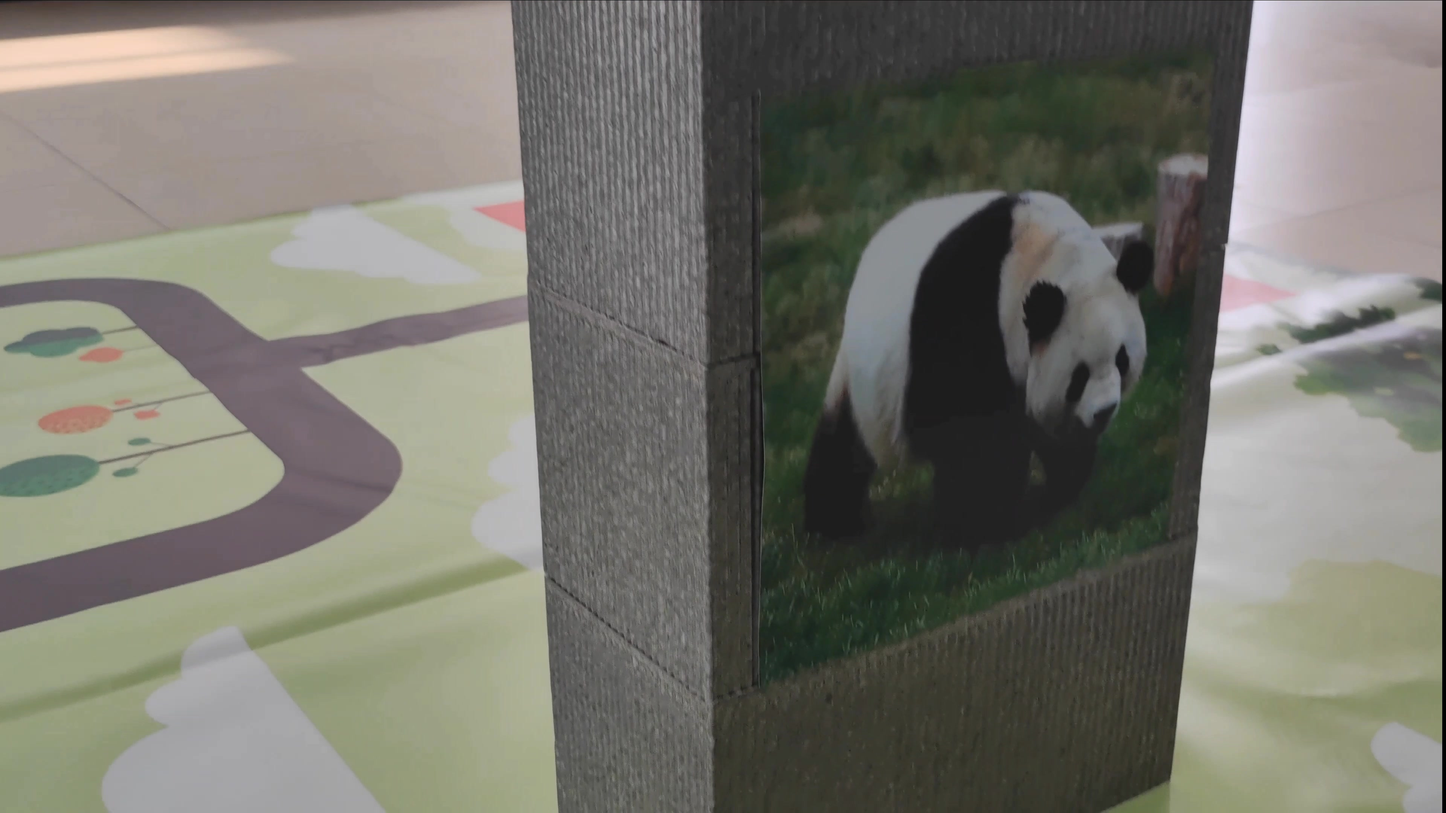panda: (779, 134, 1193, 562)
